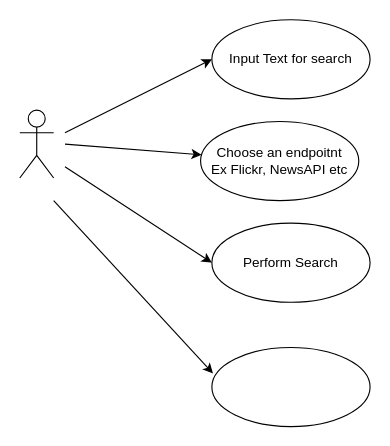
This 390x446 diagram has some shape labels left out. The shapes that lost their labels are listed below. From the top down, each one's centre as x and y in pixels, then its label:
At (36,143): "Actor".
At (290,386): "Choose customization of view - small /medium/large".
